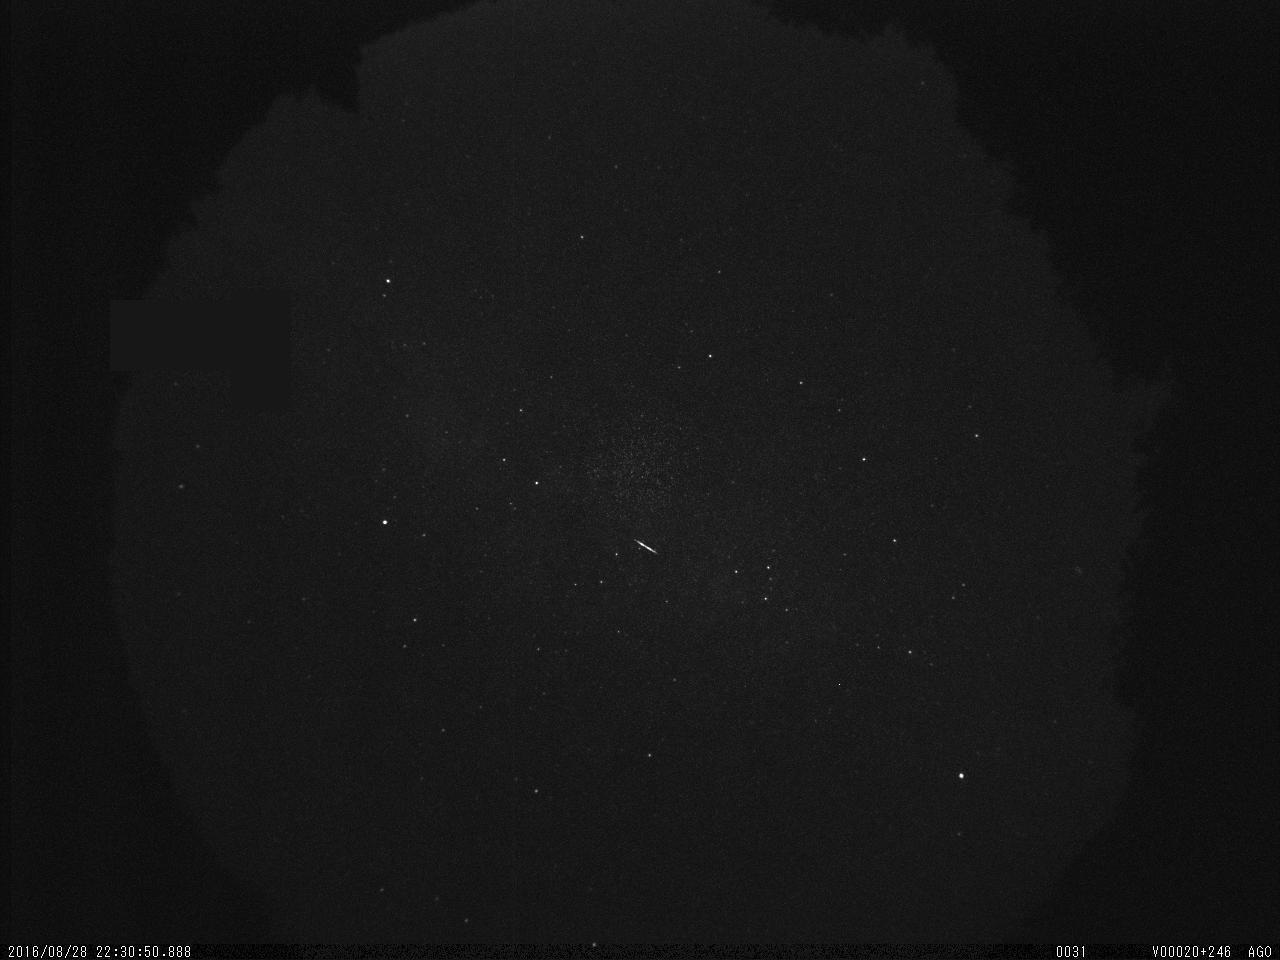meteor: (613, 520, 682, 568)
